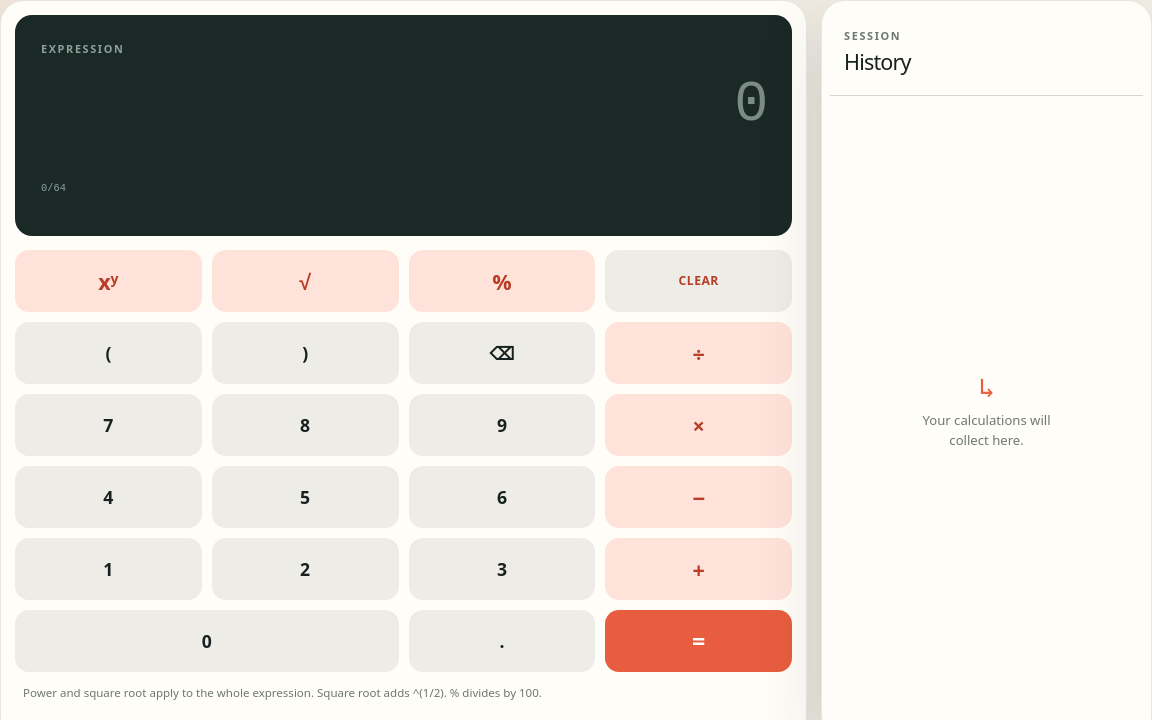
Test: calculator input › allows prefix 1+ but blocks evaluation
The image size is (1152, 720).
Type "1+" into the field at (404, 105), box [41, 71, 766, 140]
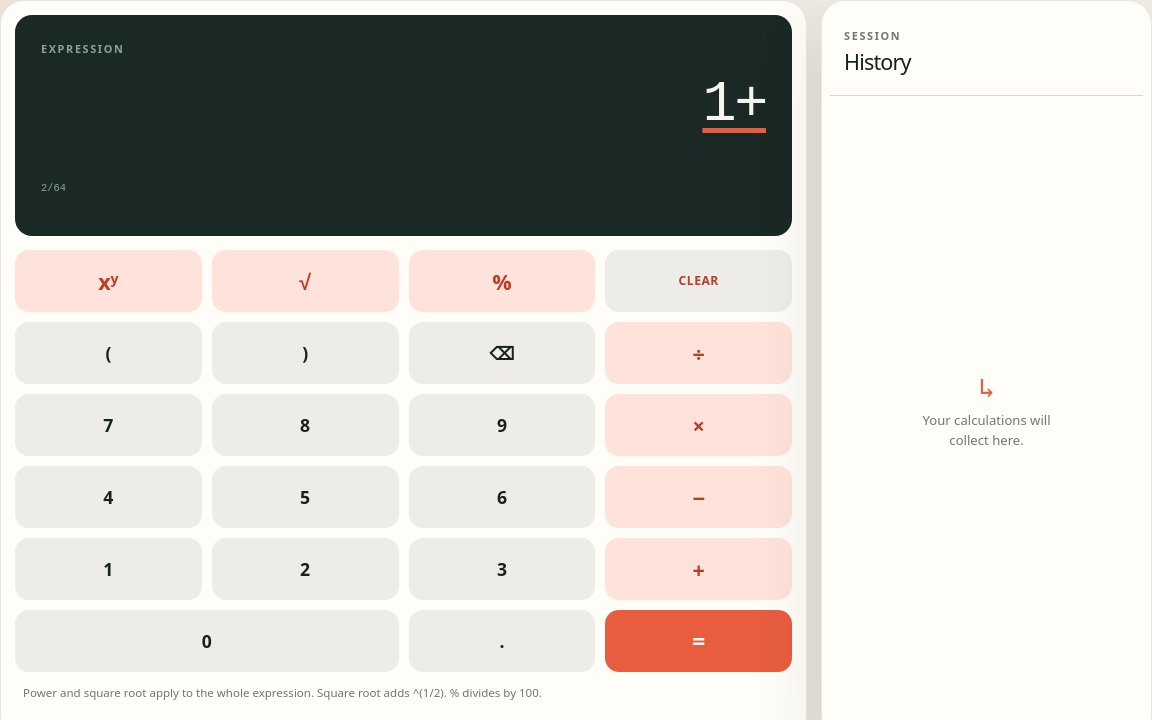
Click the button named "Calculate result" at (699, 642), box [605, 610, 792, 672]
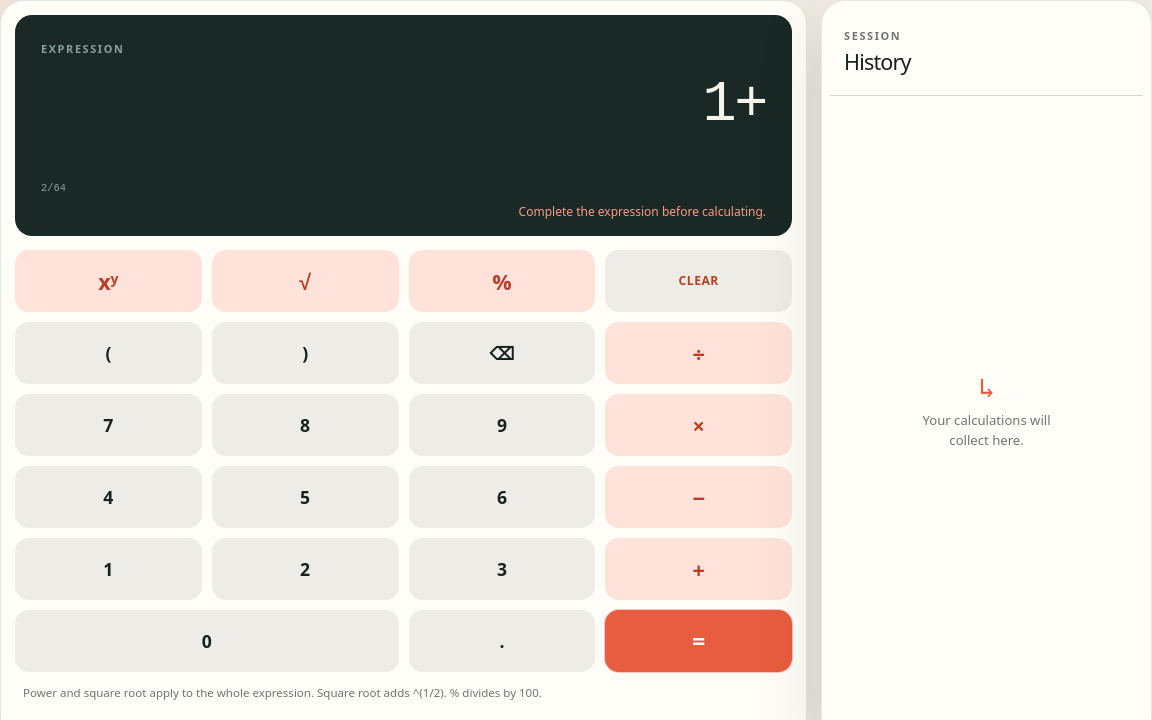
Expected: the message shows "Complete the expression", [519, 204, 766, 220]
